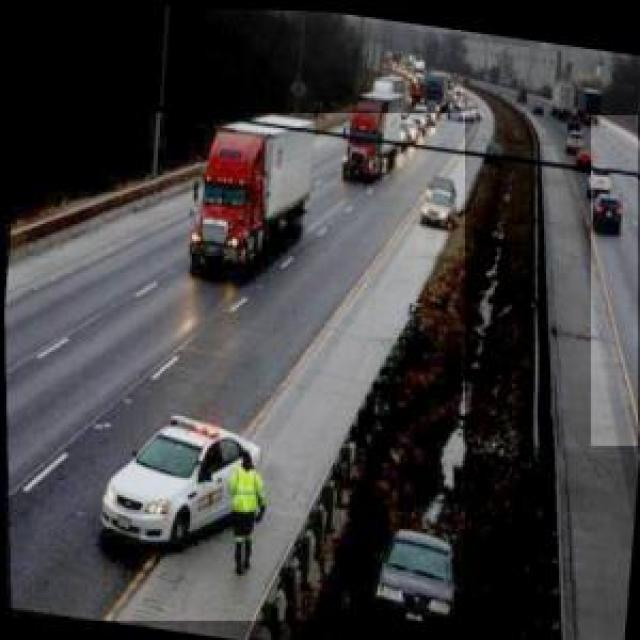clear-road: (5, 114, 465, 621), (592, 116, 640, 446)
